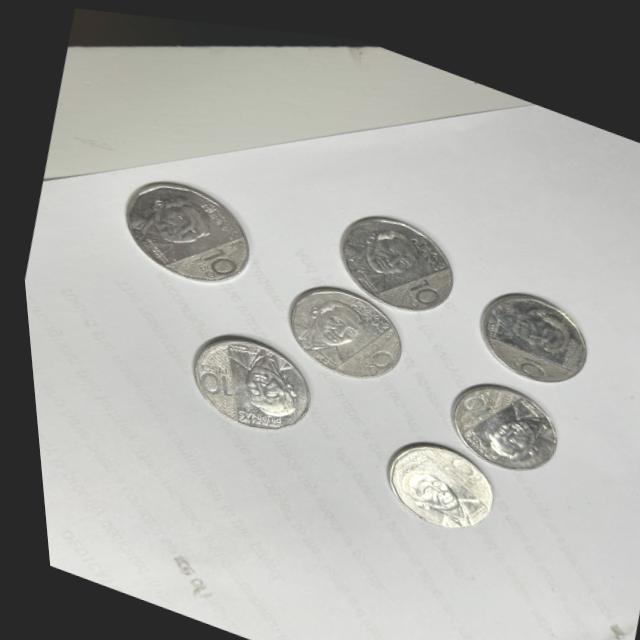10_New_Front: (339, 323, 390, 374), (177, 353, 231, 399), (433, 443, 487, 487), (452, 370, 500, 419), (187, 235, 234, 277), (398, 263, 442, 307), (510, 339, 555, 376)
